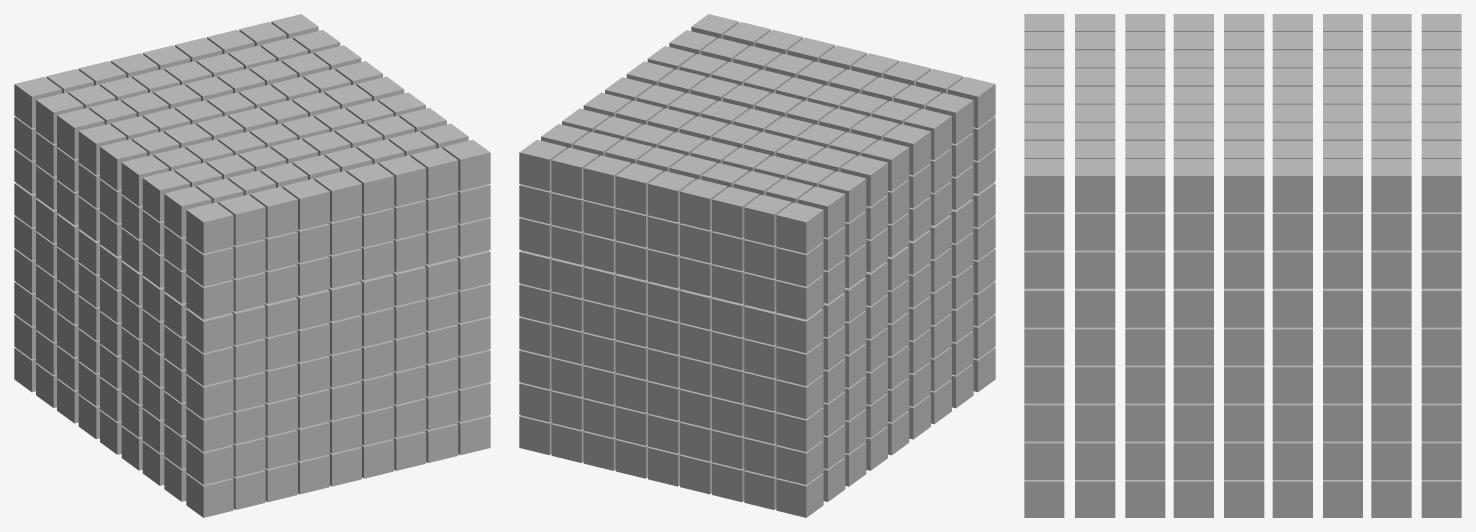
3 views of the same model, side by side, from view 1: azimuth 30°, elevation 25°; view 2: azimuth 150°, elevation 25°; view 3: azimuth 270°, elevation 25° (orthographic). The views are drawn at different scales.
Parts seen in each view (by area): view 1: mesh_id1591, mesh_id1590, mesh_id1550, mesh_id1596, mesh_id1605, mesh_id1561, mesh_id1562, mesh_id1586, mesh_id1585, mesh_id1592, mesh_id1583, mesh_id1584 (+205 smaller); view 2: mesh_id1420, mesh_id1419, mesh_id1425, mesh_id1379, mesh_id1434, mesh_id1415, mesh_id1414, mesh_id1390, mesh_id1421, mesh_id1391, mesh_id1412, mesh_id1413 (+205 smaller); view 3: mesh_id1144, mesh_id725, mesh_id224, mesh_id643, mesh_id1561, mesh_id1308, mesh_id391, mesh_id1390, mesh_id1226, mesh_id1143, mesh_id724, mesh_id163 (+141 smaller).
Part boxes in pixels (x1,y1,x2,y2): mesh_id1591: (186, 202, 233, 253); mesh_id1590: (186, 308, 233, 353); mesh_id1550: (378, 155, 426, 206); mesh_id1596: (346, 163, 394, 214); mesh_id1605: (250, 186, 297, 237); mesh_id1561: (443, 140, 490, 191); mesh_id1562: (411, 147, 458, 198); mesh_id1586: (186, 440, 233, 484); mesh_id1585: (186, 275, 233, 319); mesh_id1592: (218, 194, 265, 245); mesh_id1583: (186, 342, 233, 386); mesh_id1584: (186, 242, 233, 286); mesh_id1420: (776, 202, 823, 253); mesh_id1419: (776, 308, 823, 353); mesh_id1425: (615, 163, 663, 214); mesh_id1379: (583, 155, 631, 206); mesh_id1434: (712, 186, 759, 237); mesh_id1415: (776, 440, 823, 484); mesh_id1414: (776, 275, 823, 319); mesh_id1390: (519, 140, 566, 191); mesh_id1421: (744, 194, 791, 245); mesh_id1391: (551, 147, 598, 198); mesh_id1412: (776, 342, 823, 386); mesh_id1413: (776, 242, 823, 286); mesh_id1144: (1371, 159, 1411, 212); mesh_id725: (1125, 159, 1165, 212); mesh_id224: (1173, 159, 1213, 212); mesh_id643: (1075, 159, 1115, 212); mesh_id1561: (1024, 159, 1064, 212); mesh_id1308: (1272, 159, 1312, 212); mesh_id391: (1224, 159, 1264, 212); mesh_id1390: (1421, 159, 1461, 212); mesh_id1226: (1323, 159, 1362, 212); mesh_id1143: (1371, 288, 1411, 327); mesh_id724: (1125, 288, 1165, 327); mesh_id163: (1173, 288, 1213, 327).
Bounding box in the file's own units: 0.6485 × 0.6383 × 0.7403.
1 material, 1 textured.
